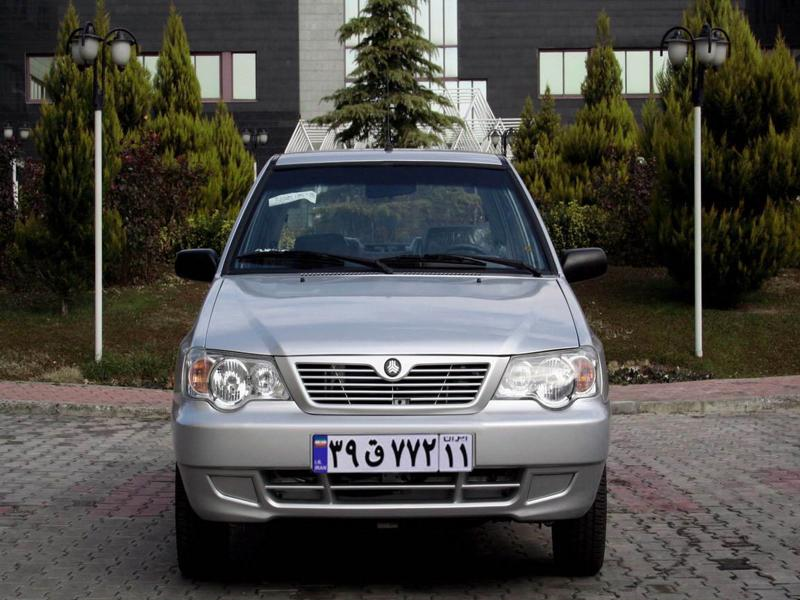Plate: (314, 430, 475, 469)
